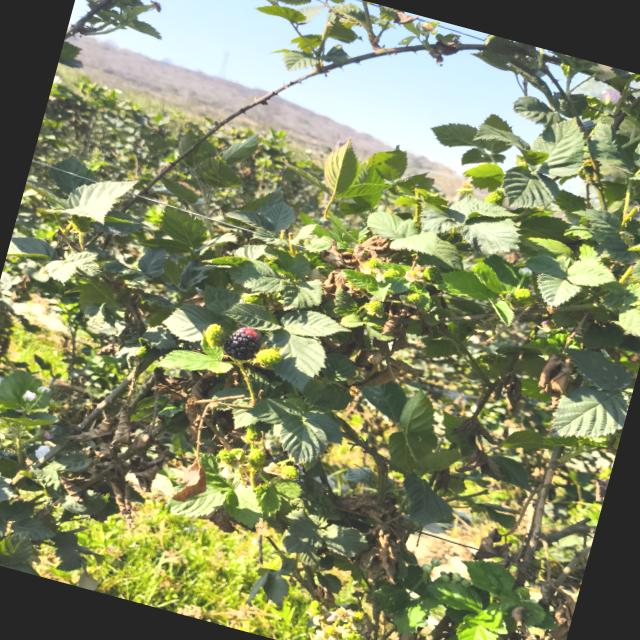marron: (222, 327, 259, 360)
verde: (203, 323, 225, 347), (254, 347, 281, 366)
